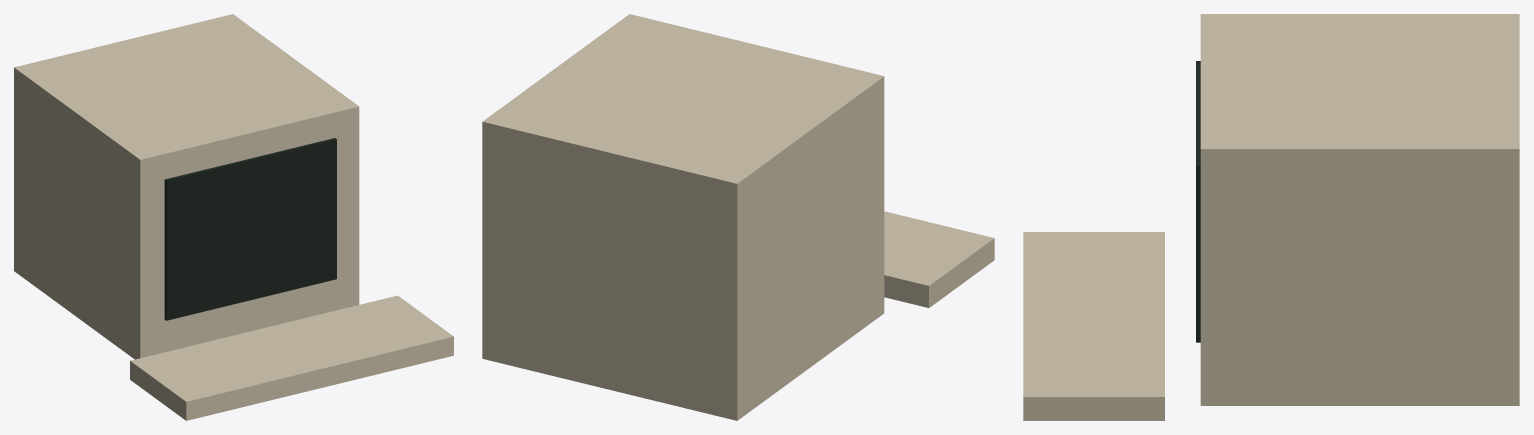
Rendered from terminal.glb.
3 renders of one model, left to right at view 1: azimuth 30°, elevation 25°; view 2: azimuth 150°, elevation 25°; view 3: azimuth 270°, elevation 25°, orthographic. The views are drawn at different scales.
Parts seen in each view (by area): view 1: kit-terminal, SCREEN; view 2: kit-terminal; view 3: kit-terminal, SCREEN.
Part boxes in pixels (x1,y1,x2,y2): kit-terminal: (14,14,453,420); SCREEN: (164,138,336,320); kit-terminal: (482,14,994,420); kit-terminal: (1023,14,1519,420); SCREEN: (1196,61,1200,342).
Size of the model in its own units: 0.44 by 0.32 by 0.56.
